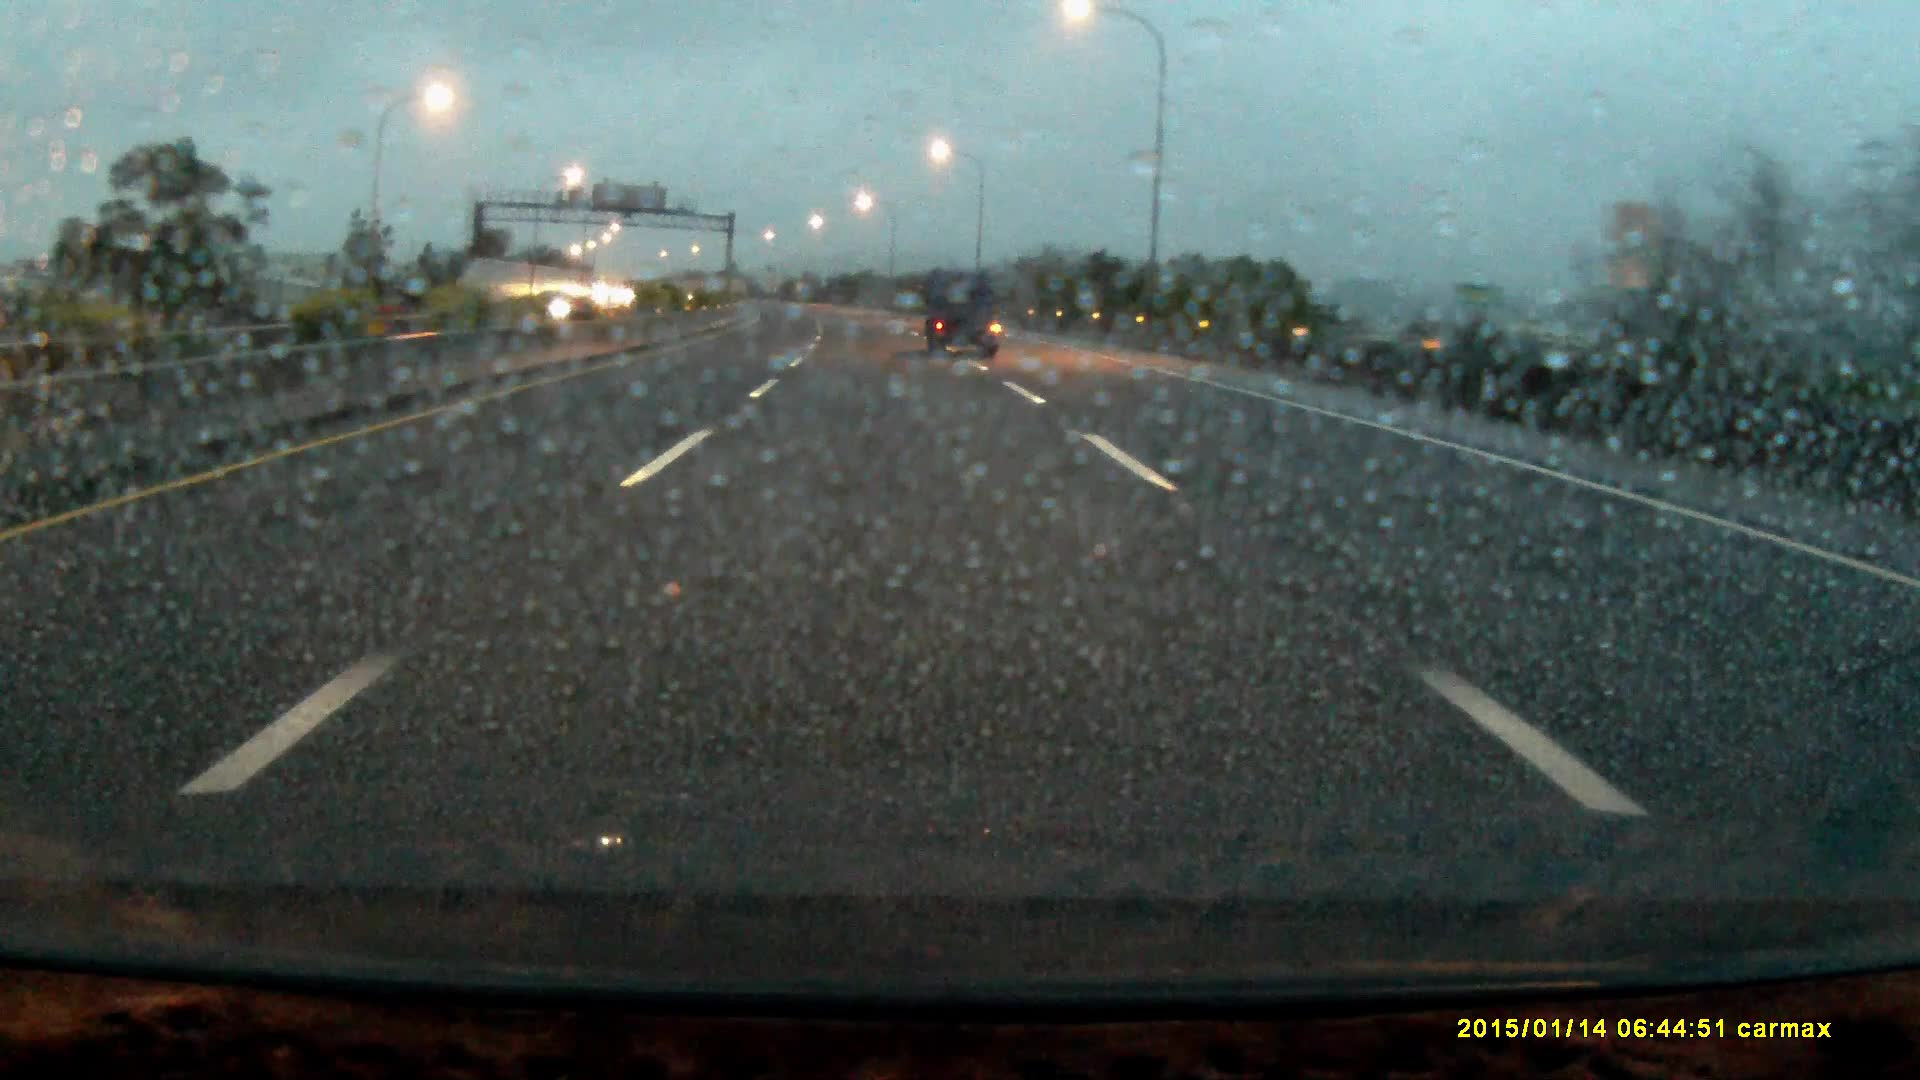vehicle: (923, 272, 1006, 357)
